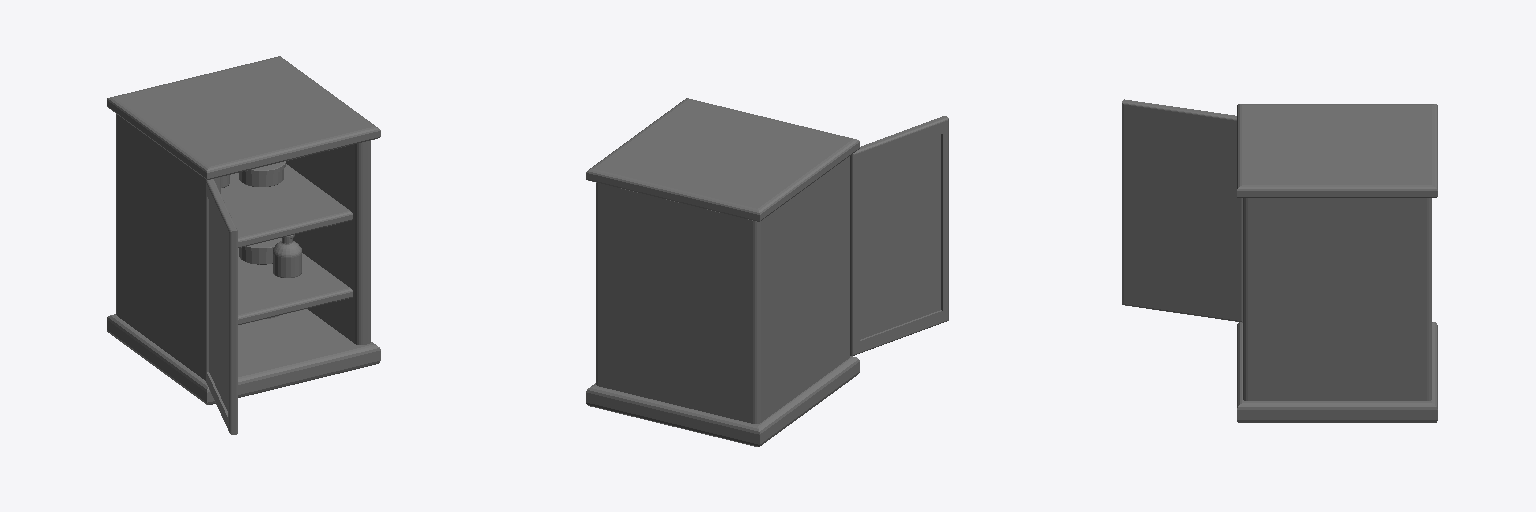
File: bathroom_cabinet.obj
3 renders of one model, left to right at view 1: azimuth 30°, elevation 25°; view 2: azimuth 150°, elevation 25°; view 3: azimuth 270°, elevation 25°, orthographic.
Parts seen in each view (by area): view 1: polySurface26; view 2: polySurface26; view 3: polySurface26.
Boxes of the visible parts, <box> form: polySurface26: <box>107,56,380,434</box>; polySurface26: <box>586,98,948,446</box>; polySurface26: <box>1122,99,1437,422</box>.
Bounding box in the file's own units: 64.14 × 70.51 × 84.78.